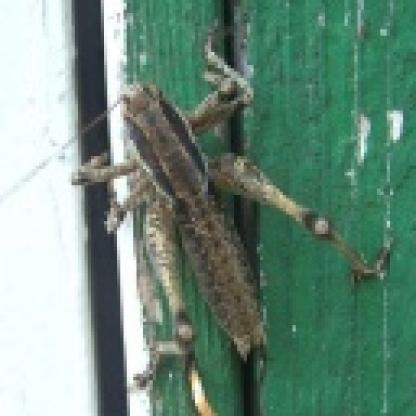grasshopper: (68, 76, 412, 381)
